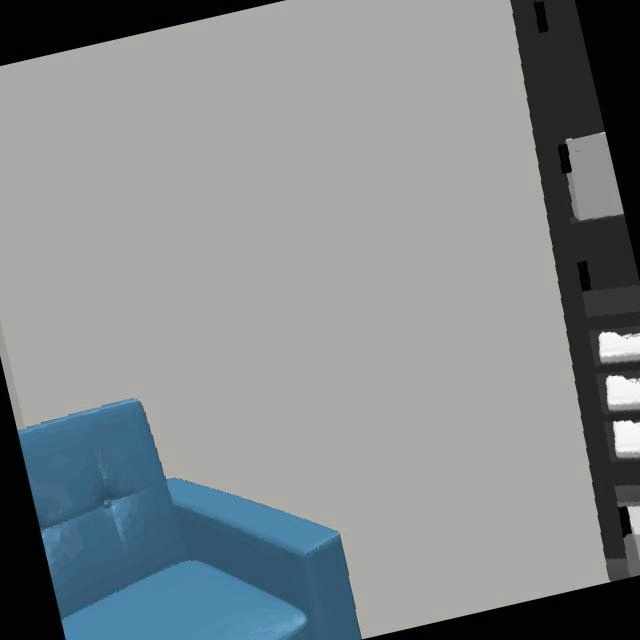sofa: (17, 400, 360, 640)
wardrobe: (513, 0, 640, 579)
